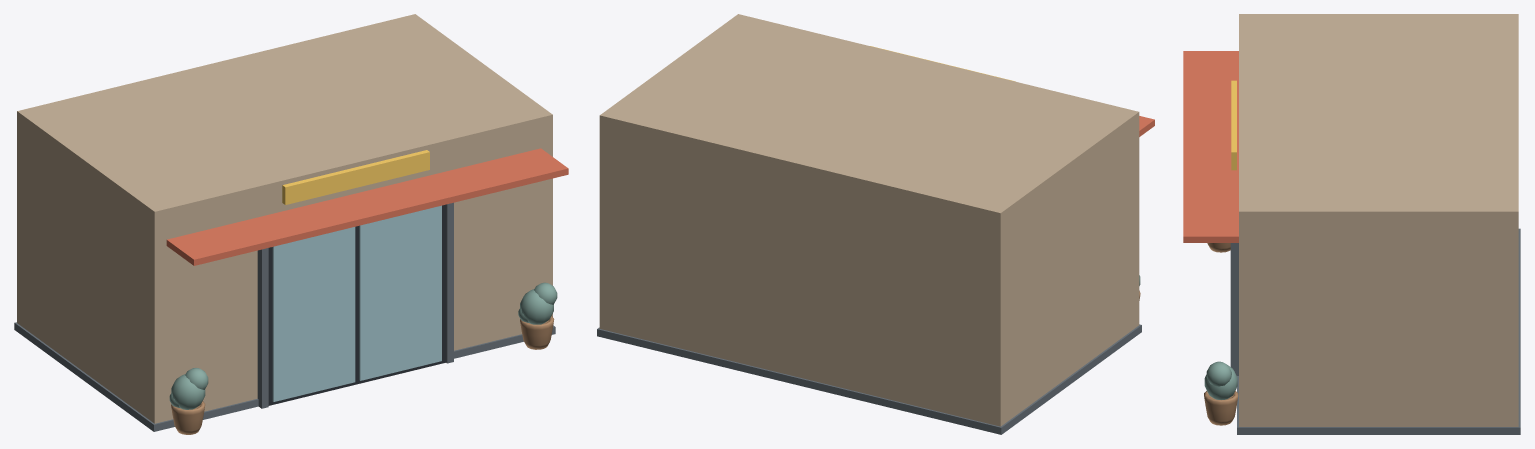
Rendered from portal.gltf.
The picture shows the model from 3 angles, left to right: view 1: azimuth 30°, elevation 25°; view 2: azimuth 150°, elevation 25°; view 3: azimuth 270°, elevation 25°; orthographic projection.
Visible parts, largest first — view 1: cuerpo, cristal_izq, cristal_der, toldo, rotulo, hueco, zocalo, marco_izq, marco_der, arbusto_izq_a, arbusto_der_a, maceta_izq (+1 smaller); view 2: cuerpo, zocalo; view 3: cuerpo, toldo, zocalo, marco_der, maceta_der, rotulo, arbusto_der_a, arbusto_der_b.
Part boxes in pixels (left/top/right/bottom): cuerpo: left=17, top=14, right=552, bottom=423; cristal_izq: left=272, top=227, right=355, bottom=401; cristal_der: left=359, top=205, right=441, bottom=380; toldo: left=166, top=148, right=568, bottom=265; rotulo: left=282, top=150, right=429, bottom=204; hueco: left=268, top=204, right=445, bottom=405; zocalo: left=14, top=322, right=555, bottom=431; marco_izq: left=257, top=248, right=268, bottom=408; marco_der: left=446, top=202, right=453, bottom=363; arbusto_izq_a: left=171, top=374, right=205, bottom=409; arbusto_der_a: left=520, top=289, right=553, bottom=324; maceta_izq: left=171, top=401, right=205, bottom=434; cuerpo: left=599, top=14, right=1139, bottom=426; zocalo: left=597, top=324, right=1141, bottom=434; cuerpo: left=1239, top=14, right=1518, bottom=426; toldo: left=1183, top=51, right=1238, bottom=242; zocalo: left=1237, top=228, right=1520, bottom=434; marco_der: left=1230, top=243, right=1238, bottom=375; maceta_der: left=1204, top=391, right=1238, bottom=425; rotulo: left=1231, top=80, right=1236, bottom=170; arbusto_der_a: left=1204, top=365, right=1237, bottom=399; arbusto_der_b: left=1206, top=361, right=1231, bottom=386.
Size of the model in its own units: 4.72 by 2.46 by 3.38.
